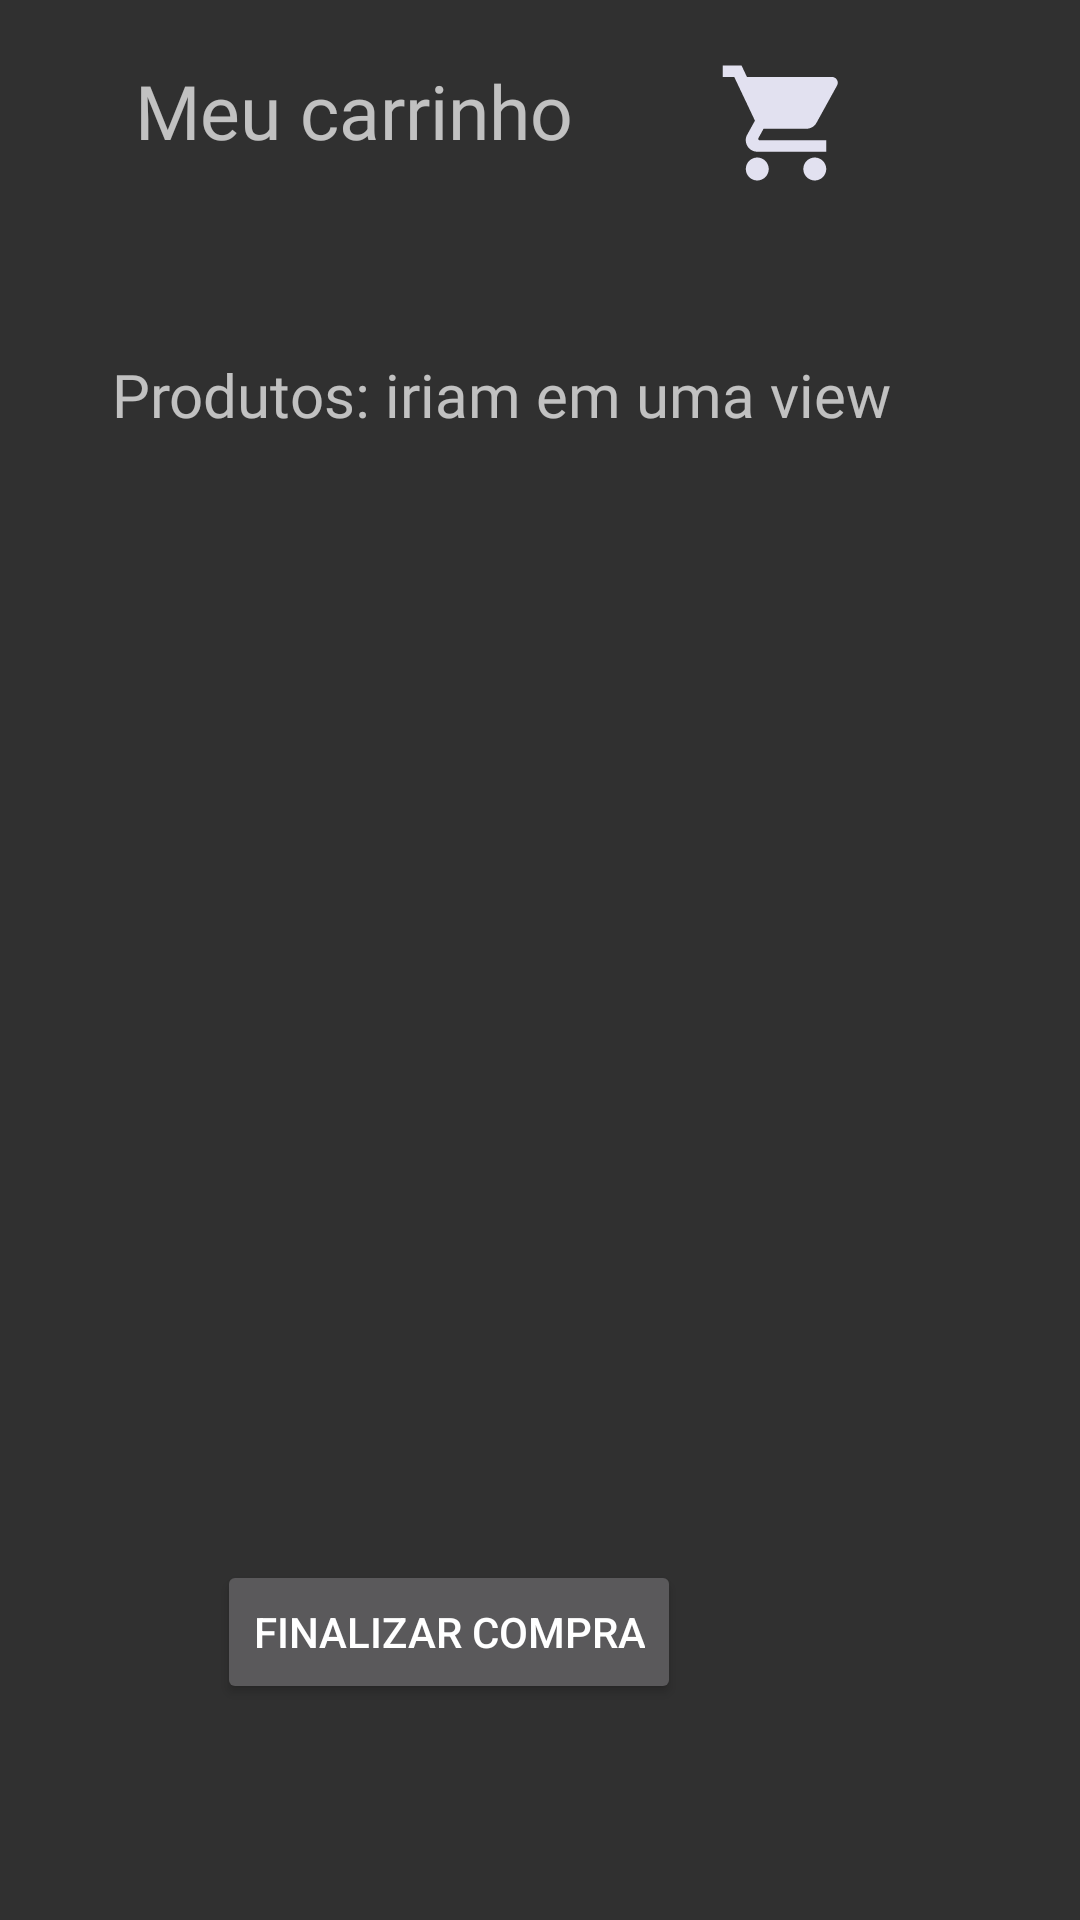

Icons on this 1080×1920 Android screen, each with its box as (x1, y1, x2, y2):
shopping cart: (722, 65, 838, 181)
